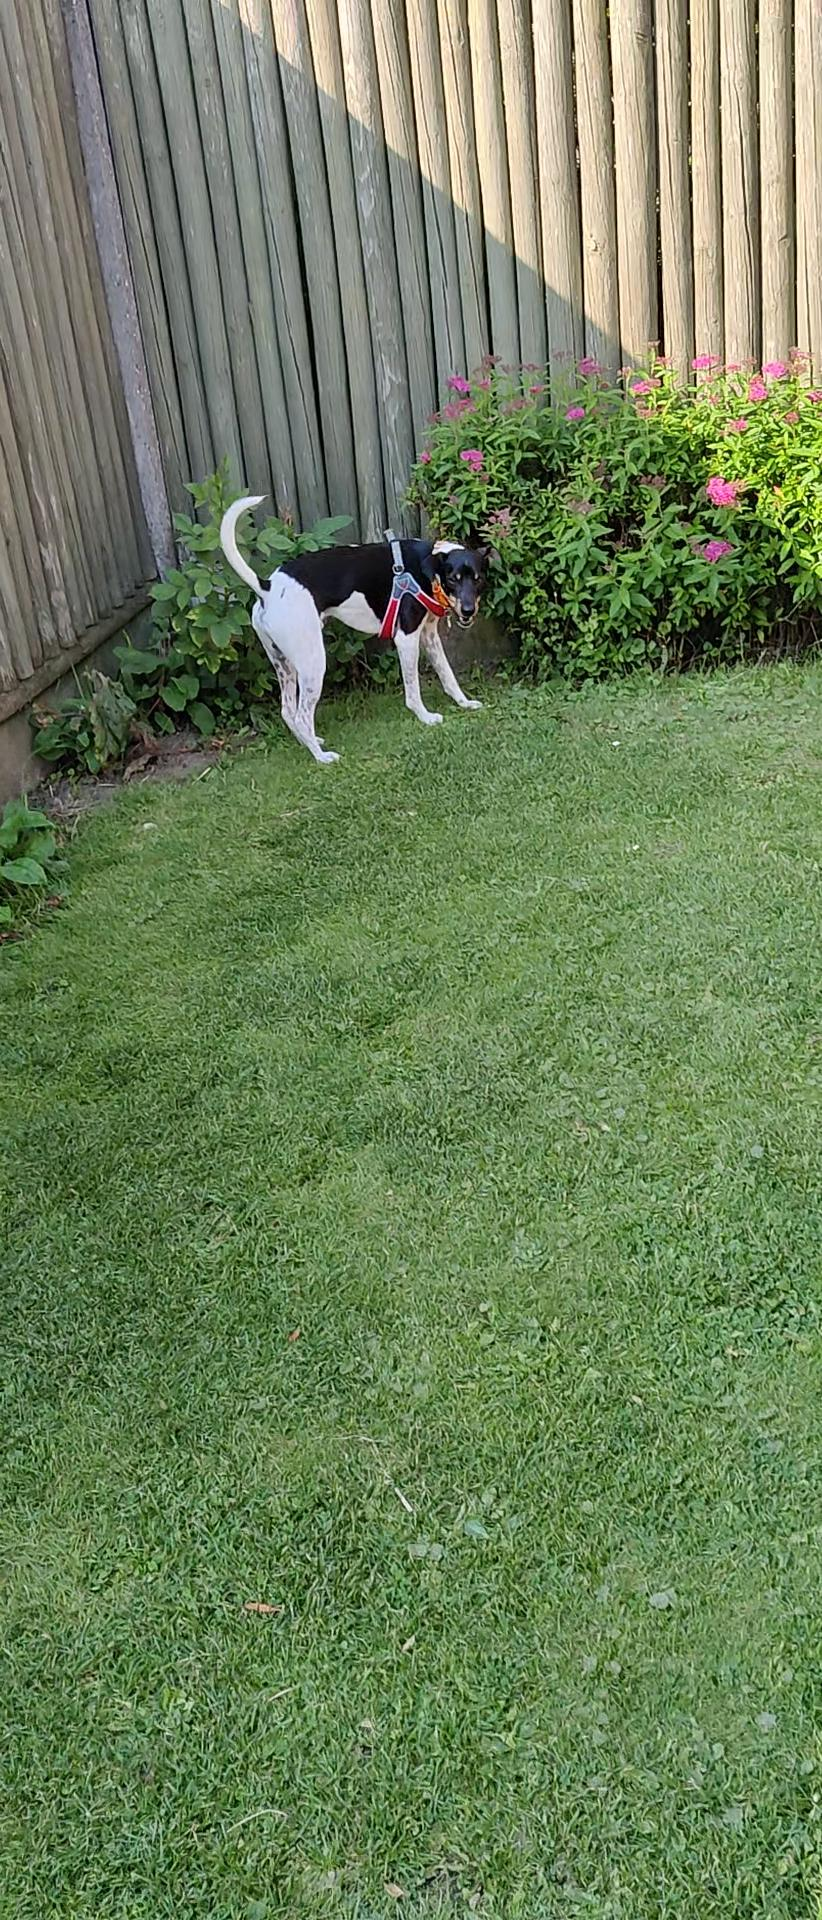Dog: (213, 490, 508, 765)
